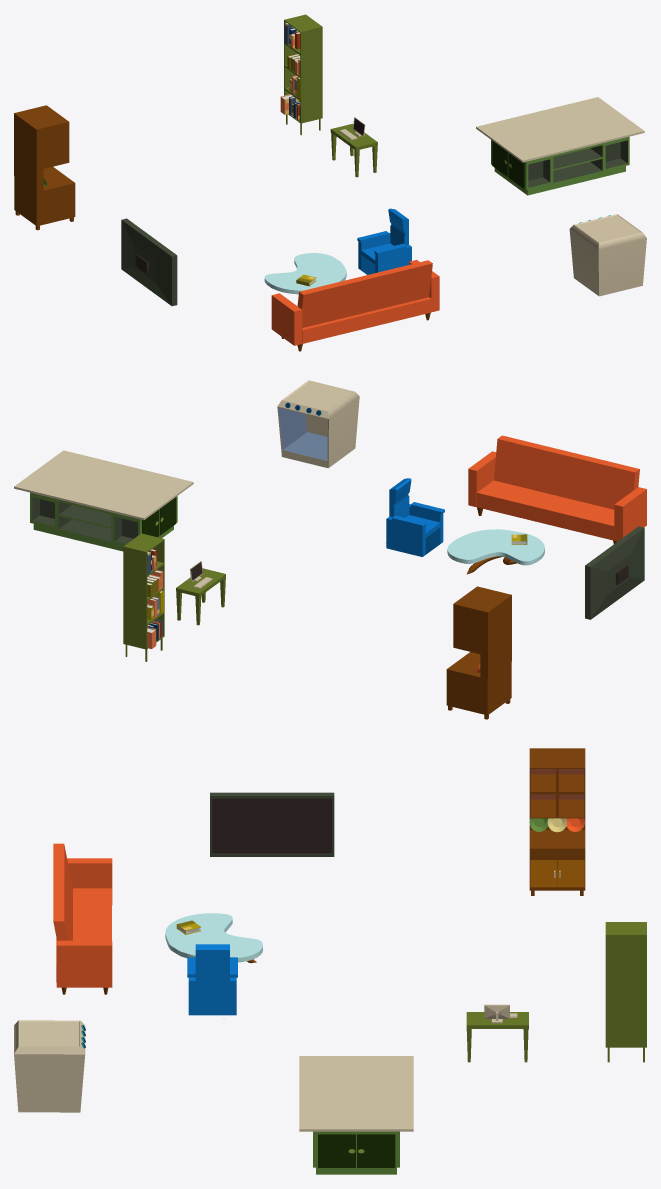
File: MueblesEstaticos.obj
3 views of the same model, one above another, from view 1: azimuth 30°, elevation 25°; view 2: azimuth 150°, elevation 25°; view 3: azimuth 270°, elevation 25° (orthographic). The views are drawn at different scales.
Visible parts, largest first — view 1: group1 Objetos:Barra_cocina, group1 Objetos:Sillon_rojo, group1 Objetos:MueblepolySurface42, group1 Objetos:Estufa1polySurface64, group1 Objetos:TelepolySurface13, Objetos:Librero group1, group1 Objetos:Silla_Azul, group1 Objetos:MesapolySurface61, group1 Objetos:Mesa_compu; view 2: group1 Objetos:Sillon_rojo, group1 Objetos:Barra_cocina, group1 Objetos:MueblepolySurface42, group1 Objetos:Estufa1polySurface64, group1 Objetos:TelepolySurface13, Objetos:Librero group1, group1 Objetos:Silla_Azul, group1 Objetos:MesapolySurface61, group1 Objetos:Mesa_compu; view 3: group1 Objetos:Barra_cocina, group1 Objetos:TelepolySurface13, group1 Objetos:Sillon_rojo, group1 Objetos:Estufa1polySurface64, group1 Objetos:MueblepolySurface42, Objetos:Librero group1, group1 Objetos:Silla_Azul, group1 Objetos:MesapolySurface61, group1 Objetos:Mesa_compu, group1 Objetos:polySurface45Mueble, group1 Objetos:MueblepolySurface44.
Part boxes in pixels (x1,y1,x2,y2): group1 Objetos:Barra_cocina: (476, 97, 644, 195); group1 Objetos:Sillon_rojo: (271, 260, 439, 351); group1 Objetos:MueblepolySurface42: (14, 105, 75, 230); group1 Objetos:Estufa1polySurface64: (569, 214, 646, 296); group1 Objetos:TelepolySurface13: (121, 218, 177, 306); Objetos:Librero group1: (284, 14, 322, 135); group1 Objetos:Silla_Azul: (357, 208, 411, 274); group1 Objetos:MesapolySurface61: (264, 253, 346, 294); group1 Objetos:Mesa_compu: (330, 124, 377, 177); group1 Objetos:Sillon_rojo: (468, 435, 646, 543); group1 Objetos:Barra_cocina: (14, 450, 193, 551); group1 Objetos:MueblepolySurface42: (446, 586, 511, 719); group1 Objetos:Estufa1polySurface64: (277, 380, 359, 468); group1 Objetos:TelepolySurface13: (585, 526, 644, 619); Objetos:Librero group1: (123, 533, 164, 661); group1 Objetos:Silla_Azul: (386, 478, 444, 556); group1 Objetos:MesapolySurface61: (447, 529, 544, 565); group1 Objetos:Mesa_compu: (176, 568, 225, 625); group1 Objetos:Barra_cocina: (299, 1056, 413, 1174); group1 Objetos:TelepolySurface13: (210, 792, 334, 856); group1 Objetos:Sillon_rojo: (53, 843, 112, 994); group1 Objetos:Estufa1polySurface64: (14, 1020, 85, 1112); group1 Objetos:MueblepolySurface42: (529, 748, 585, 895); Objetos:Librero group1: (605, 922, 646, 1062); group1 Objetos:Silla_Azul: (187, 944, 237, 1015); group1 Objetos:MesapolySurface61: (165, 913, 262, 962); group1 Objetos:Mesa_compu: (466, 1012, 528, 1062); group1 Objetos:polySurface45Mueble: (557, 860, 584, 887); group1 Objetos:MueblepolySurface44: (530, 860, 556, 887).
Size of the model in its own units: 1412 by 276 by 1222.
